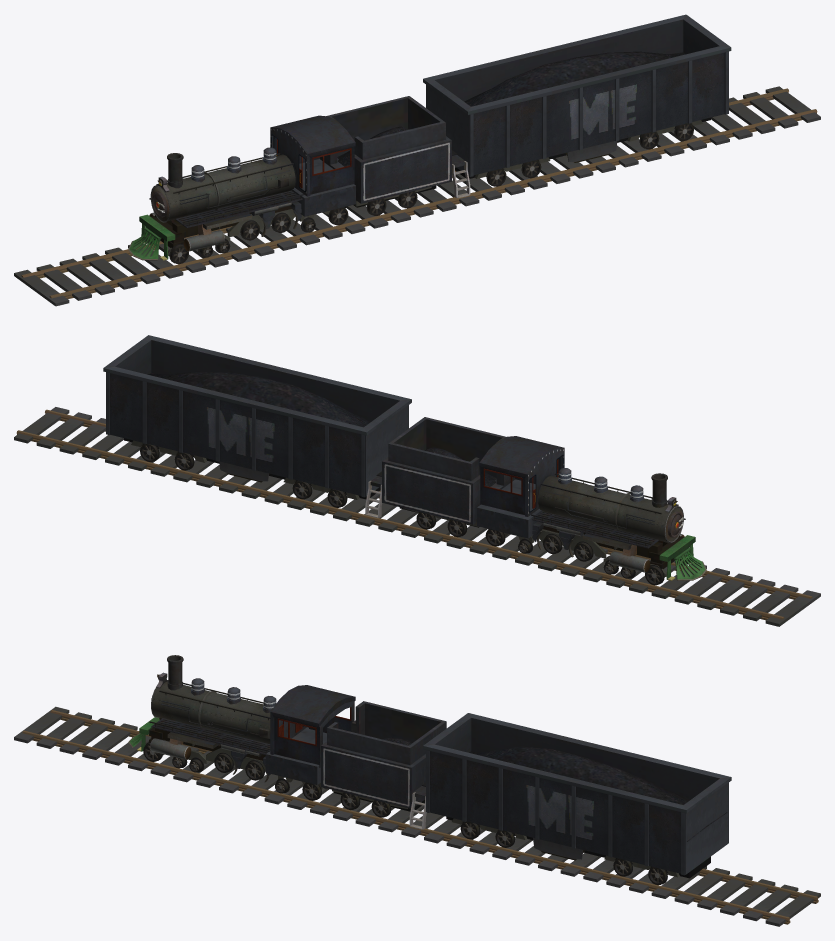
Rendered from train.FBX.
3 views of the same model, one above another, from view 1: azimuth 30°, elevation 25°; view 2: azimuth 150°, elevation 25°; view 3: azimuth 330°, elevation 25° (orthographic).
Visible parts, largest first — view 1: tiegui, chetou; view 2: tiegui, chetou; view 3: tiegui, chetou.
Part boxes in pixels (x1,y1,x2,y2): tiegui: (14,14,820,306); chetou: (128,51,693,264); tiegui: (14,335,820,626); chetou: (140,371,706,585); tiegui: (14,681,820,926); chetou: (128,655,727,885).
Bounding box in the file's own units: 278 × 35.36 × 29.61.
